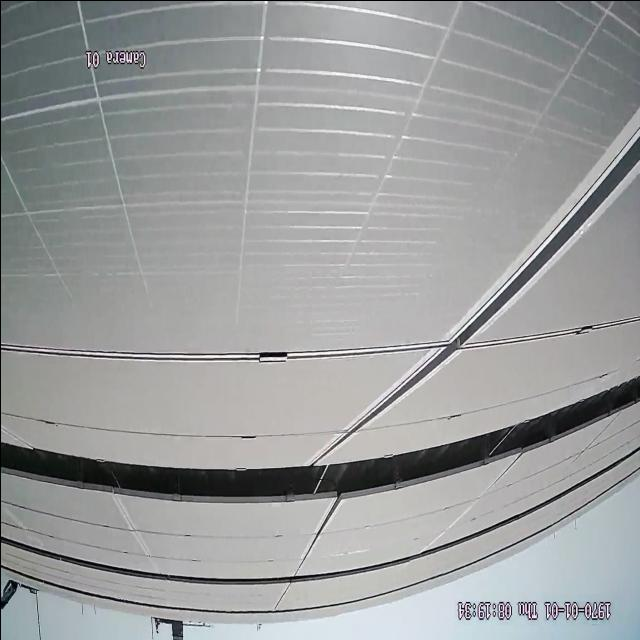interior panel: (0, 100, 639, 451), (109, 500, 161, 568), (291, 504, 338, 571)
